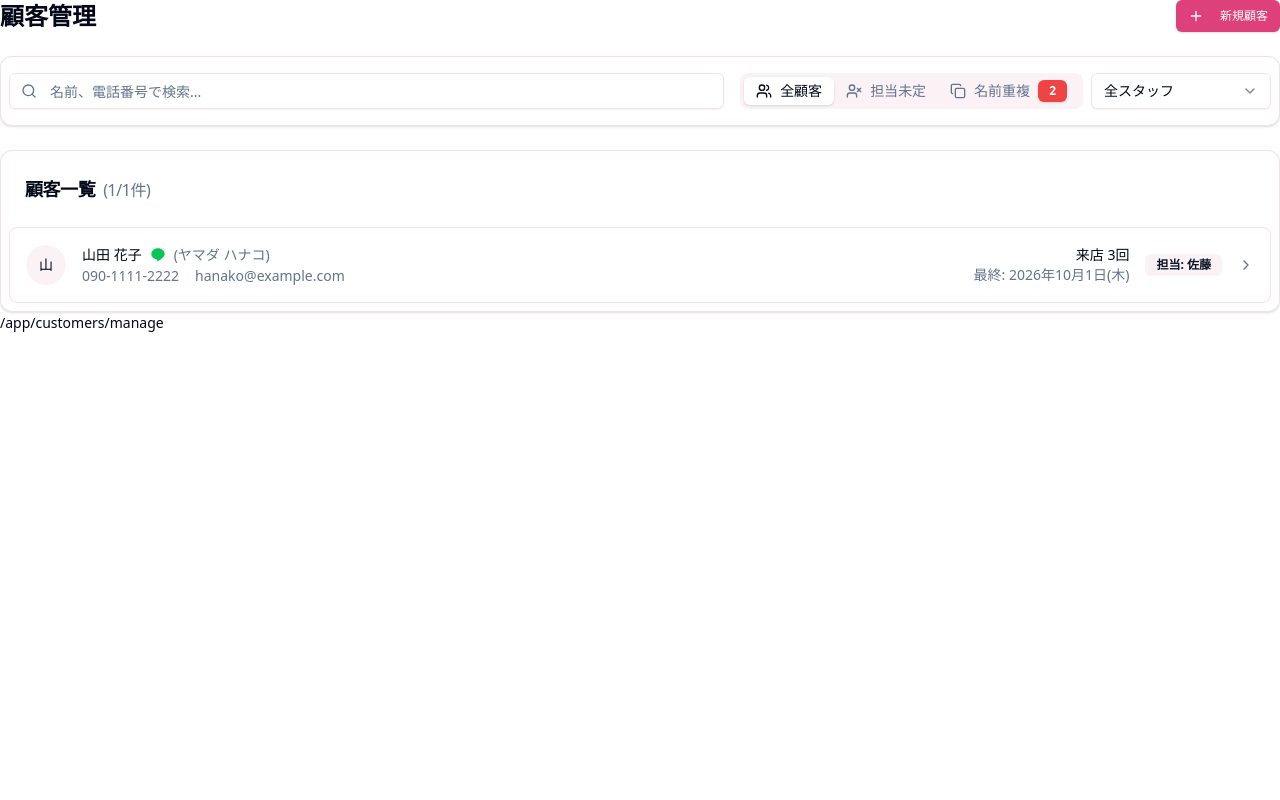
Test case: 顧客管理 list › 名前重複: link as one person, dismiss, and merge into the recommended record
Step 1. Click the tab "名前重複 2" → (1009, 91), box x1=938 y1=76 x2=1079 y2=106
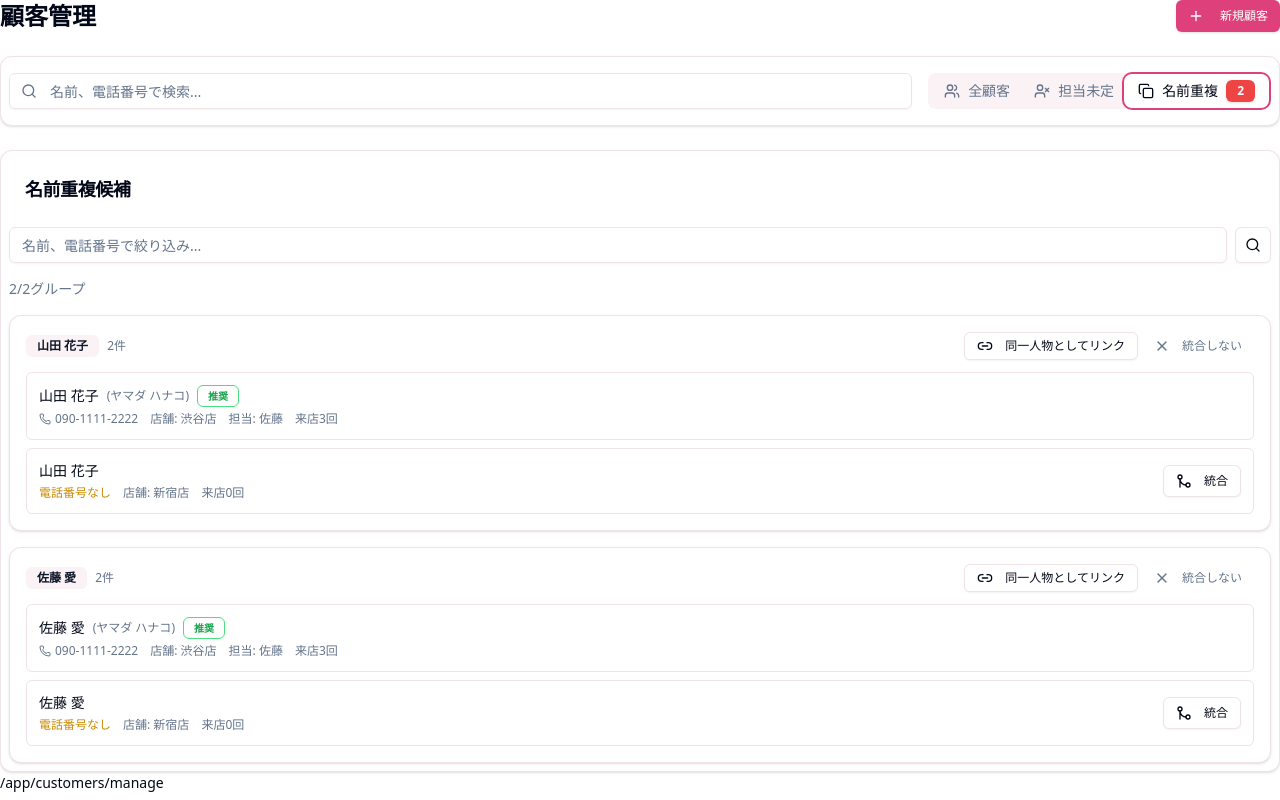
Expected: the text "名前重複候補" is shown, x1=25 y1=177 x2=130 y2=201
Expected: the text "2/2グループ" is shown, x1=9 y1=279 x2=85 y2=298
Expected: the 1st text "推奨" is shown, x1=197 y1=385 x2=239 y2=407
Step 2. Click the 1st button "同一人物としてリンク" → (1051, 346), box x1=964 y1=332 x2=1138 y2=360
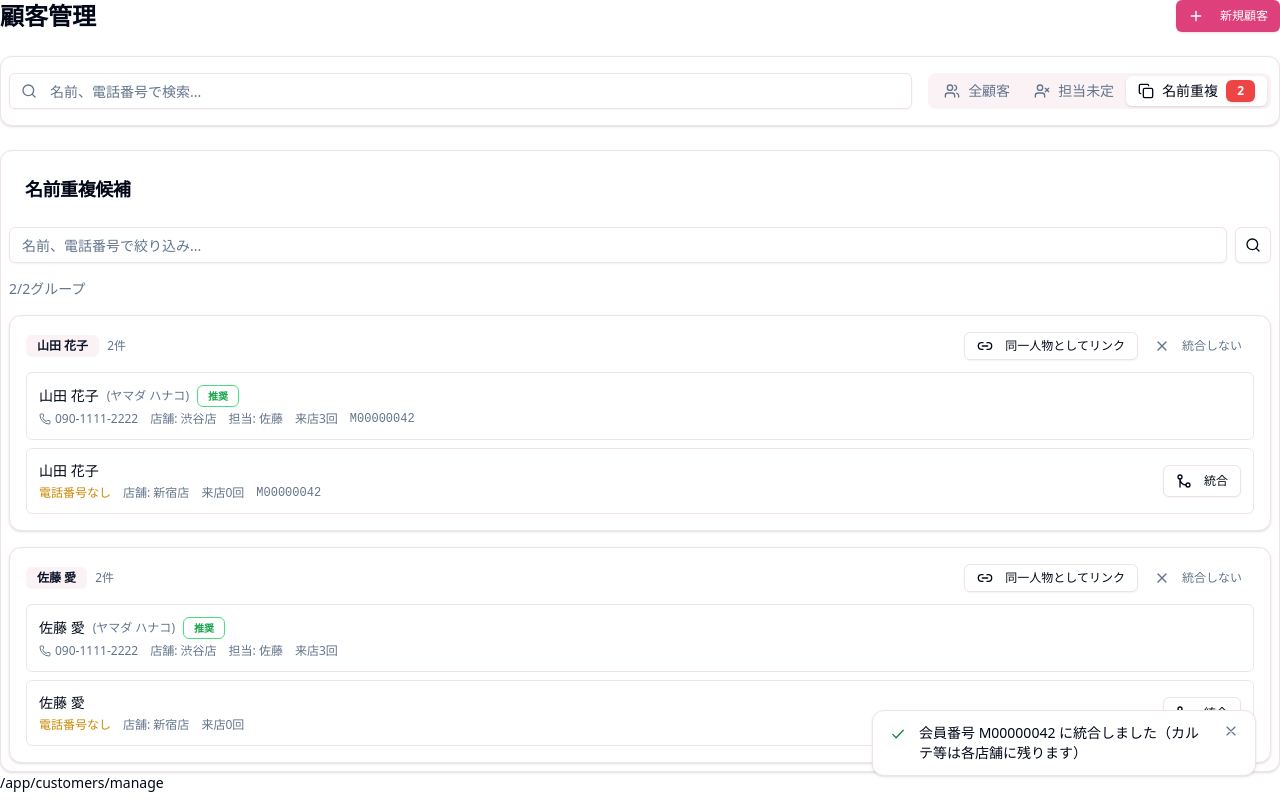
Expected: the text "会員番号 M00000042 に統合しました（カルテ等は各店舗に残ります）" is shown, x1=919 y1=723 x2=1211 y2=763
Expected: the text "M00000042" is shown 2 times, x1=350 y1=411 x2=415 y2=427; x1=256 y1=485 x2=321 y2=501
Step 3. Click the button "統合" → (1202, 481), box x1=1163 y1=465 x2=1241 y2=497
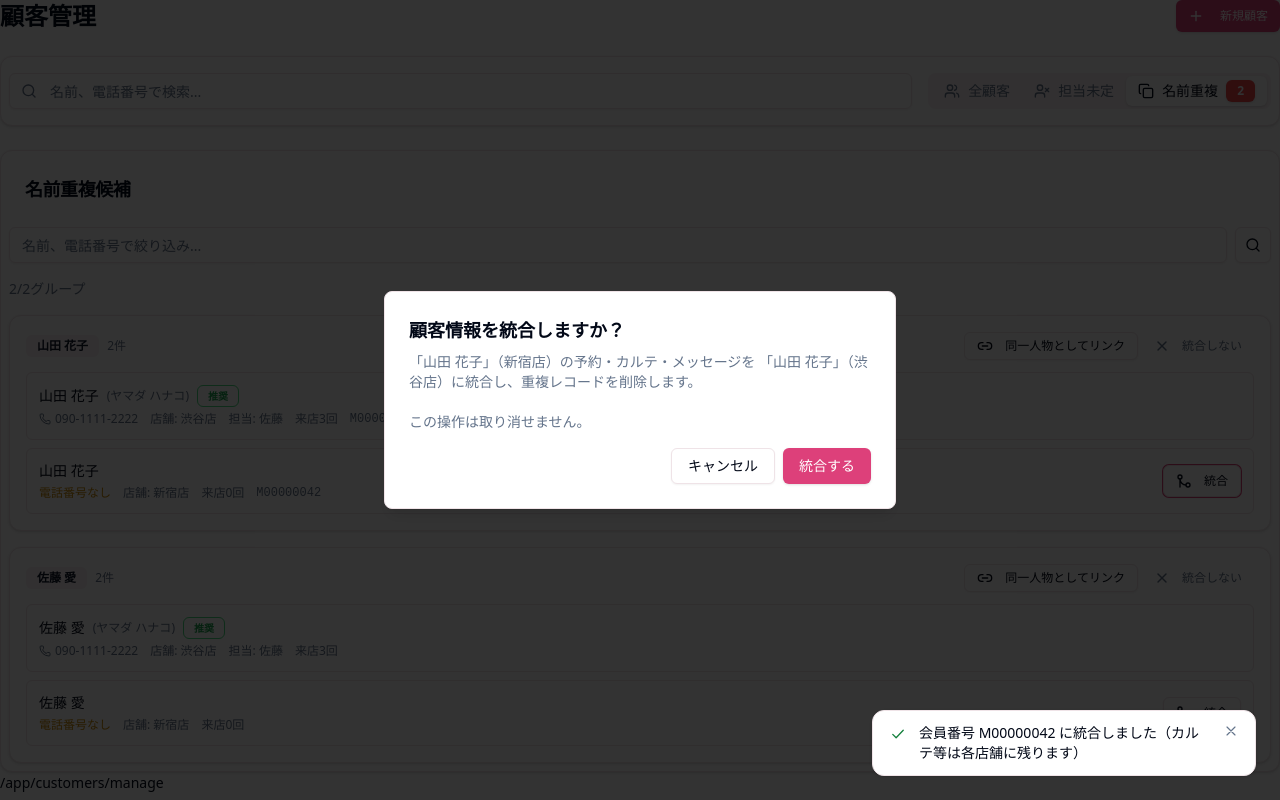
Expected: the dialog shows "「山田 花子」（新宿店）の予約・カルテ・メッセージを 「山田 花子」（渋谷店）に統合し、重複レコードを削除します。", x1=384 y1=291 x2=896 y2=509
Step 4. Click the button "統合する" → (827, 466), box x1=783 y1=448 x2=871 y2=484
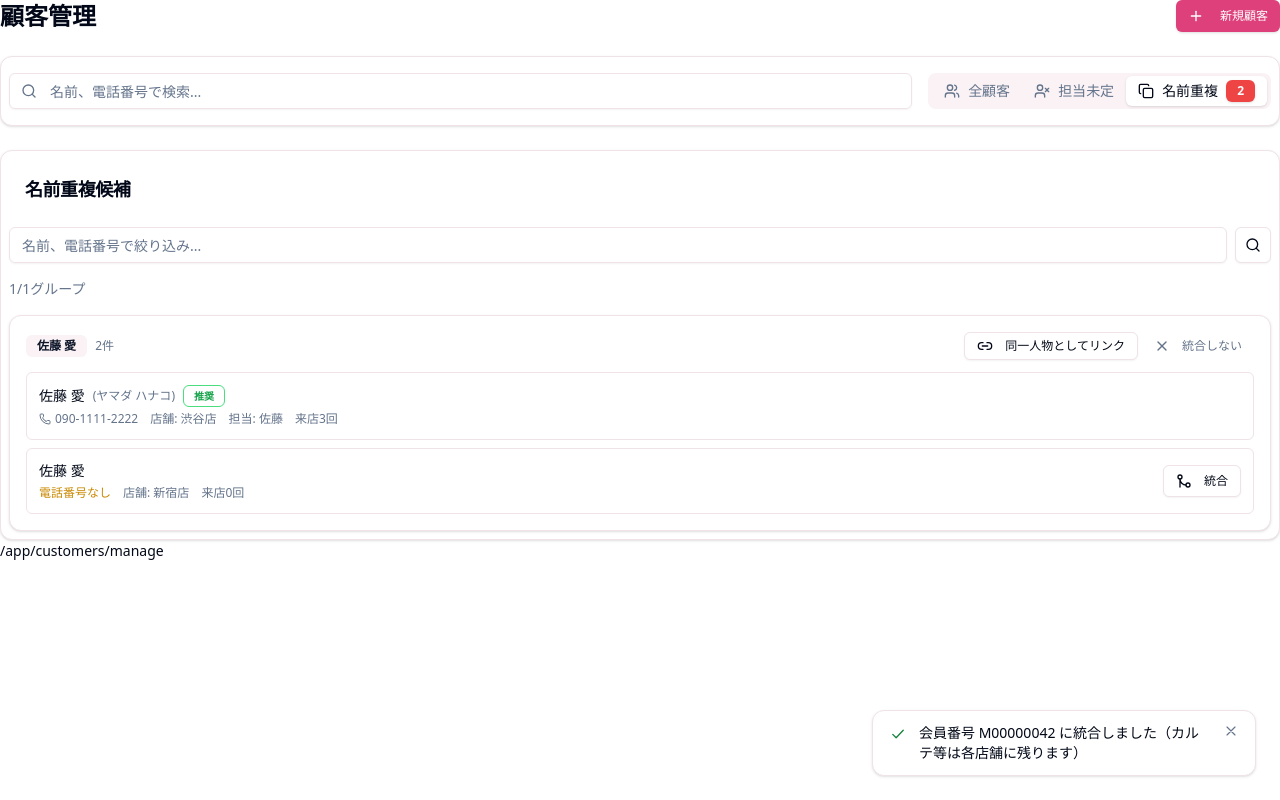
Expected: the text "1/1グループ" is shown, x1=9 y1=279 x2=85 y2=298
Step 5. Click the button "統合しない" → (1198, 346), box x1=1142 y1=332 x2=1254 y2=360
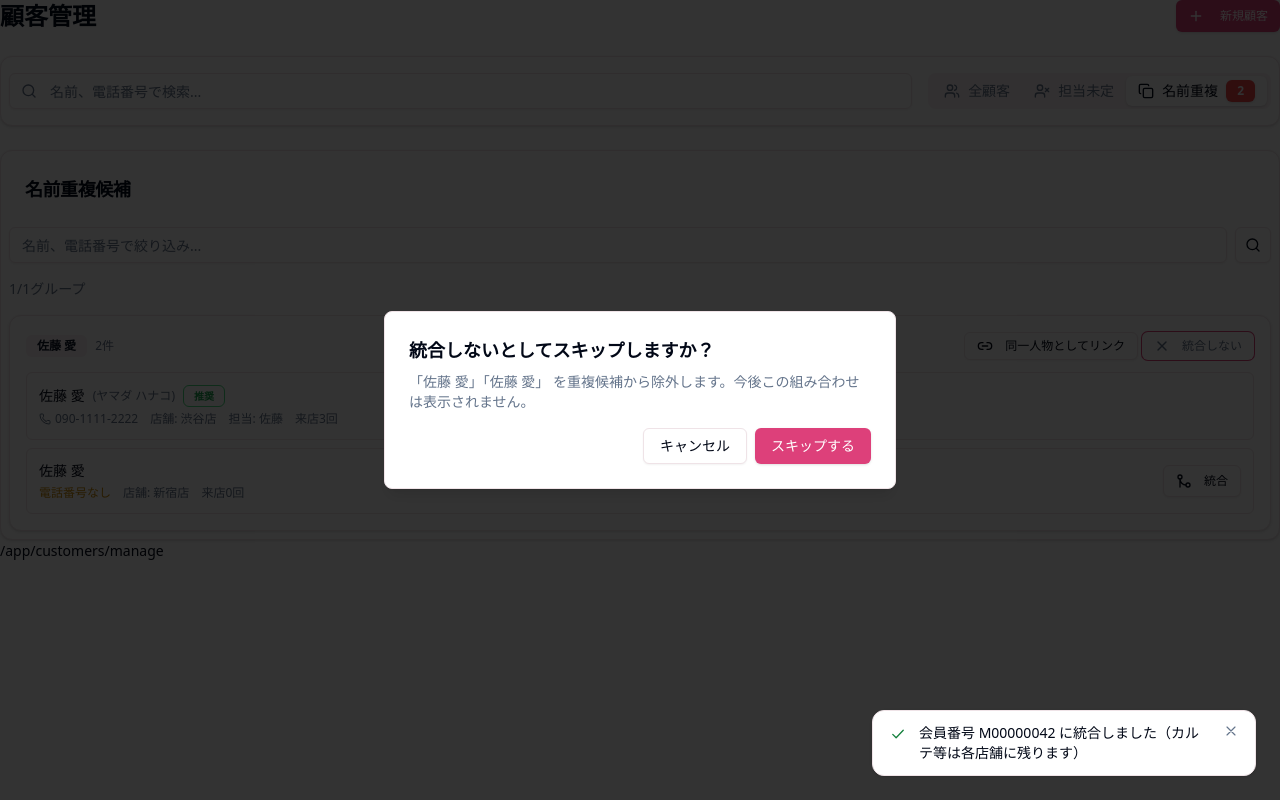
Expected: the dialog shows "統合しないとしてスキップしますか？", x1=409 y1=338 x2=714 y2=362
Expected: the dialog shows "「佐藤 愛」「佐藤 愛」 を重複候補から除外します。今後この組み合わせは表示されません。", x1=384 y1=311 x2=896 y2=489
Step 6. Click the button "スキップする" → (813, 446), box x1=755 y1=428 x2=871 y2=464
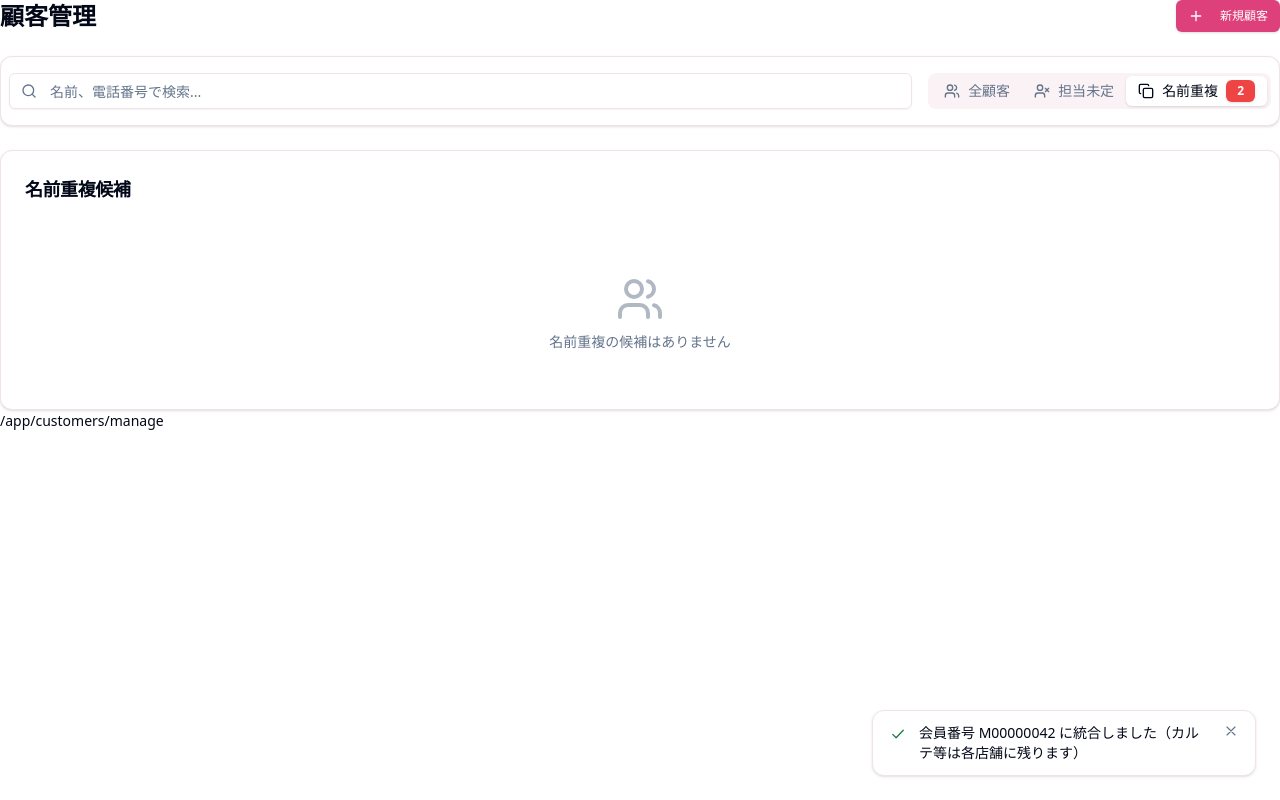
Expected: the text "名前重複の候補はありません" is shown, x1=549 y1=332 x2=731 y2=351
